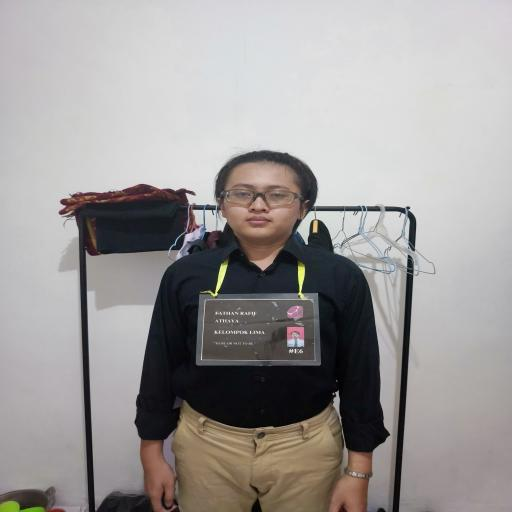celana_salah: (165, 408, 353, 512)
kemeja_salah: (139, 250, 383, 400)
nametag_ada: (184, 279, 341, 376)
